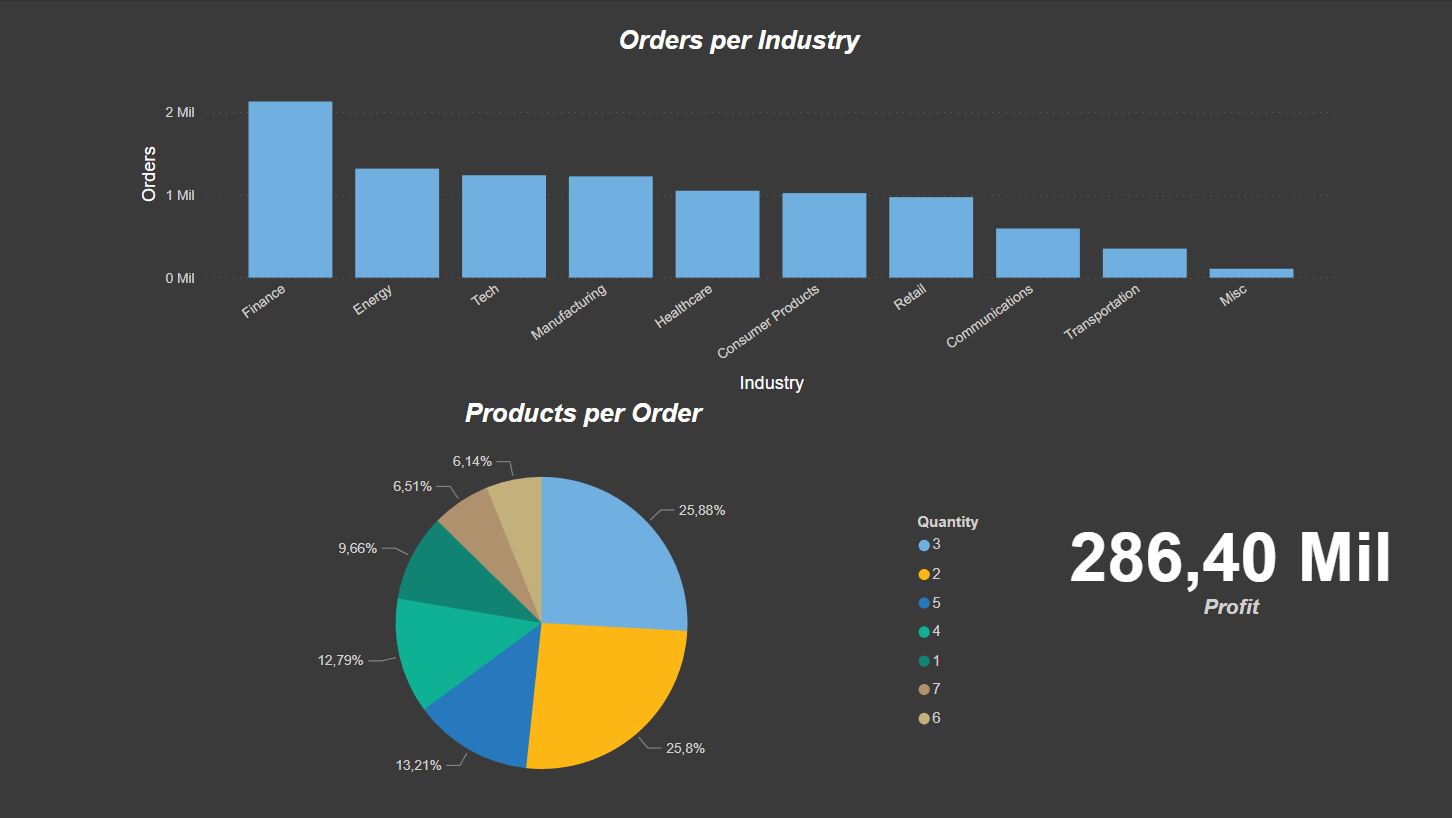

The dashboard page shown, as its layout file describes it:
{"tool":"powerbi","page":{"name":"report03","canvas":[1280,720],"ordinal":2},"visuals":[{"type":"pieChart","title":"Products per Order","fields":{"Y":["CountNonNull(saascleaned.Order ID)"],"Category":["saascleaned.Quantity"]},"box":[143.1,351.2,742,368.8],"z":0},{"type":"card","fields":{"Values":["Sum(saascleaned.Profit)"]},"box":[907.5,373.5,351.1,247.1],"z":1000},{"type":"lineClusteredColumnComboChart","title":"Orders per Industry","fields":{"Category":["saascleaned.Industry"],"Y":["CountNonNull(saascleaned.Order ID)"]},"box":[120.3,23.7,1061.6,327.5],"z":1001}]}

Visuals, with their boxes in screenshot pixels (x1, y1, x2, y2), scaled from the page's 1280x720 canvas onto the 1452x818 screenshot:
"Products per Order" pieChart: locate(162, 399, 1004, 817)
card - Sum(saascleaned.Profit): locate(1029, 424, 1428, 705)
"Orders per Industry" lineClusteredColumnComboChart: locate(136, 27, 1341, 399)
